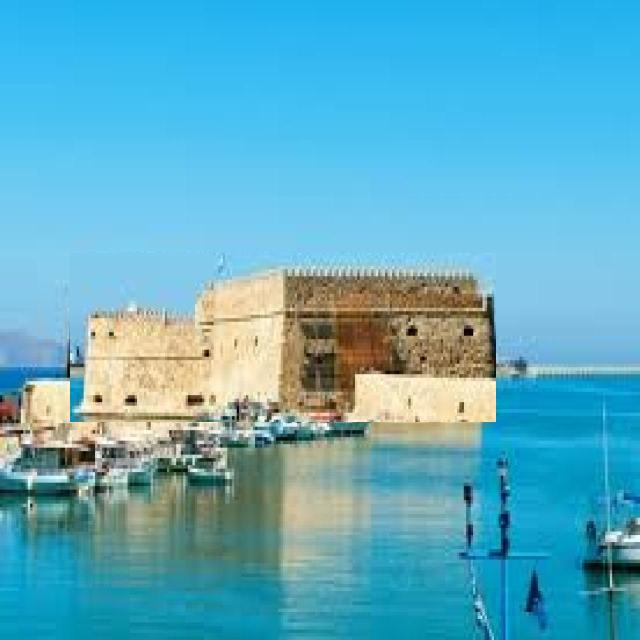Kules: (71, 254, 497, 423)
